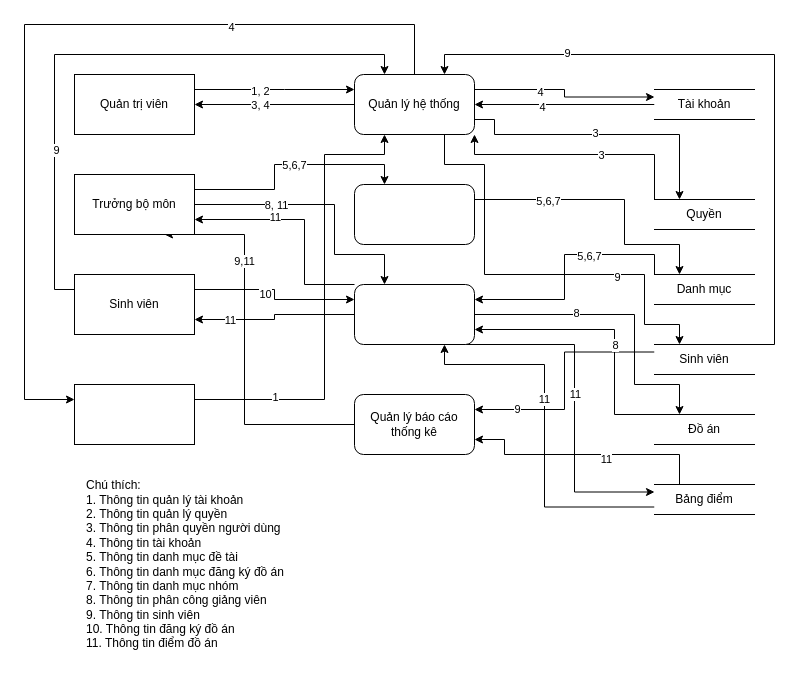
Some shapes in this 800 by 682 pixel diagram are drawn without their labels. Each missing label, with the centre of its shape:
"Giáo sư" goes at point (134, 414).
"Quản lý danh mục" goes at point (414, 214).
"Quản lý đồ án" goes at point (414, 314).
